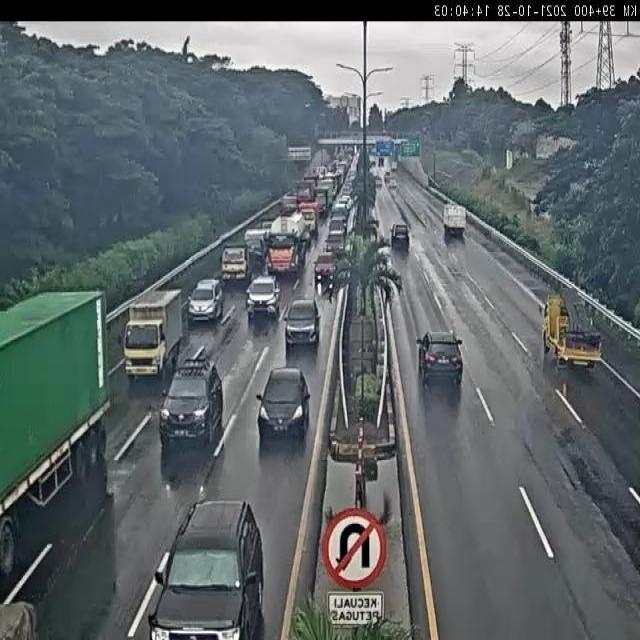Car: (159, 349, 225, 453), (254, 362, 314, 451), (416, 330, 464, 398), (244, 274, 282, 322), (390, 223, 410, 251)
Truck: (0, 291, 113, 595), (148, 498, 264, 637), (122, 288, 184, 382), (541, 294, 602, 372), (257, 366, 311, 414), (263, 220, 307, 278), (283, 297, 321, 351), (187, 278, 225, 324), (243, 228, 272, 274), (220, 246, 249, 286), (282, 211, 308, 244), (314, 250, 336, 287), (315, 177, 337, 213), (342, 200, 360, 244), (443, 204, 466, 238), (326, 218, 347, 255), (298, 203, 320, 237), (331, 194, 353, 226), (333, 263, 351, 292), (300, 178, 317, 203), (376, 244, 392, 270), (281, 193, 299, 215), (342, 179, 357, 205), (258, 225, 274, 249), (326, 170, 342, 192), (304, 169, 320, 189), (346, 151, 358, 176), (333, 163, 346, 185), (365, 216, 379, 236), (367, 198, 377, 222), (299, 158, 313, 175), (528, 200, 541, 217), (260, 220, 274, 234), (378, 234, 391, 249), (330, 160, 341, 176), (317, 200, 327, 216), (392, 142, 399, 164), (316, 165, 327, 178), (344, 147, 354, 160), (370, 164, 378, 180), (368, 144, 377, 158), (369, 154, 377, 168), (375, 176, 383, 188), (389, 178, 397, 190), (384, 170, 390, 182), (391, 161, 397, 172)
